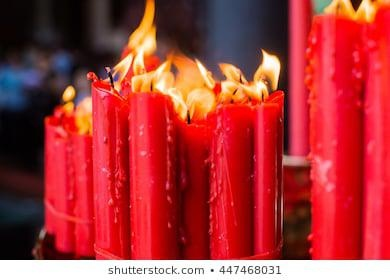fire: (107, 3, 281, 121), (318, 0, 386, 21)
